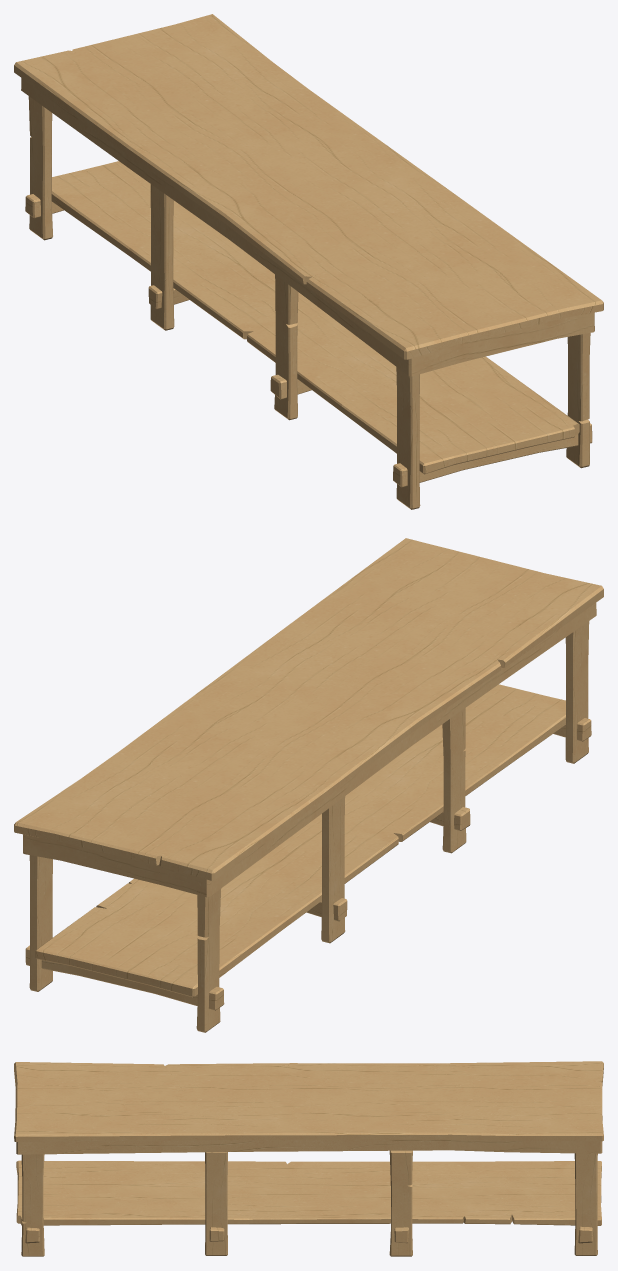
Rendered from Model_Table_Long_TILED.FBX.
3 views of the same model, one above another, from view 1: azimuth 30°, elevation 25°; view 2: azimuth 150°, elevation 25°; view 3: azimuth 270°, elevation 25° (orthographic). The views are drawn at different scales.
Parts seen in each view (by area): view 1: Table_Stylised_Long_TILED; view 2: Table_Stylised_Long_TILED; view 3: Table_Stylised_Long_TILED.
Part boxes in pixels (x1,y1,x2,y2): Table_Stylised_Long_TILED: (14,14,603,509); Table_Stylised_Long_TILED: (14,538,603,1032); Table_Stylised_Long_TILED: (14,1061,603,1256).
Bounding box in the file's own units: 150 × 120 × 509.
